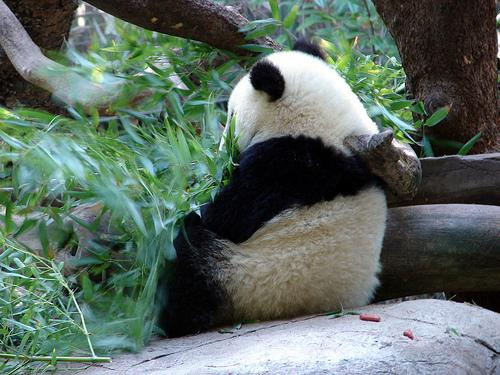panda: (159, 41, 420, 335)
